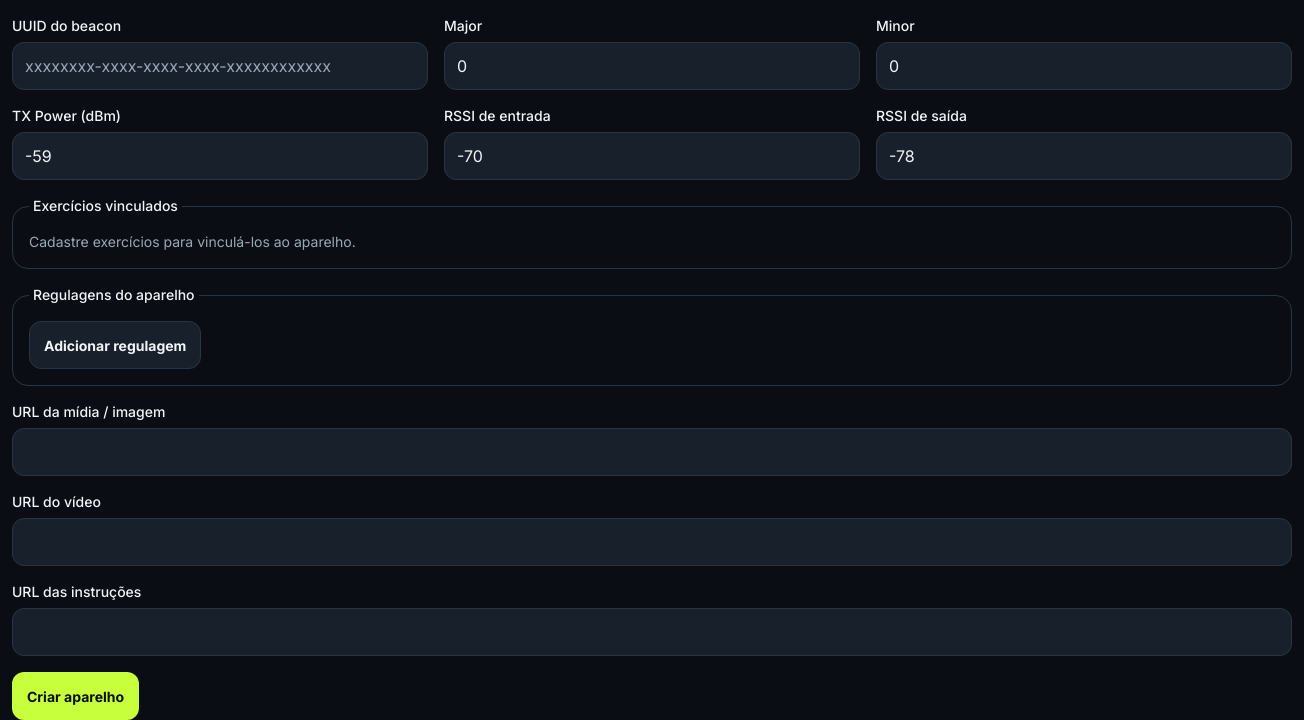
EquipmentEditorForm › valida campos obrigatórios e o formato do UUID
(page scrolled)
Click the button "Criar aparelho": {"x": 76, "y": 696} [12, 672, 139, 719]
(page scrolled)
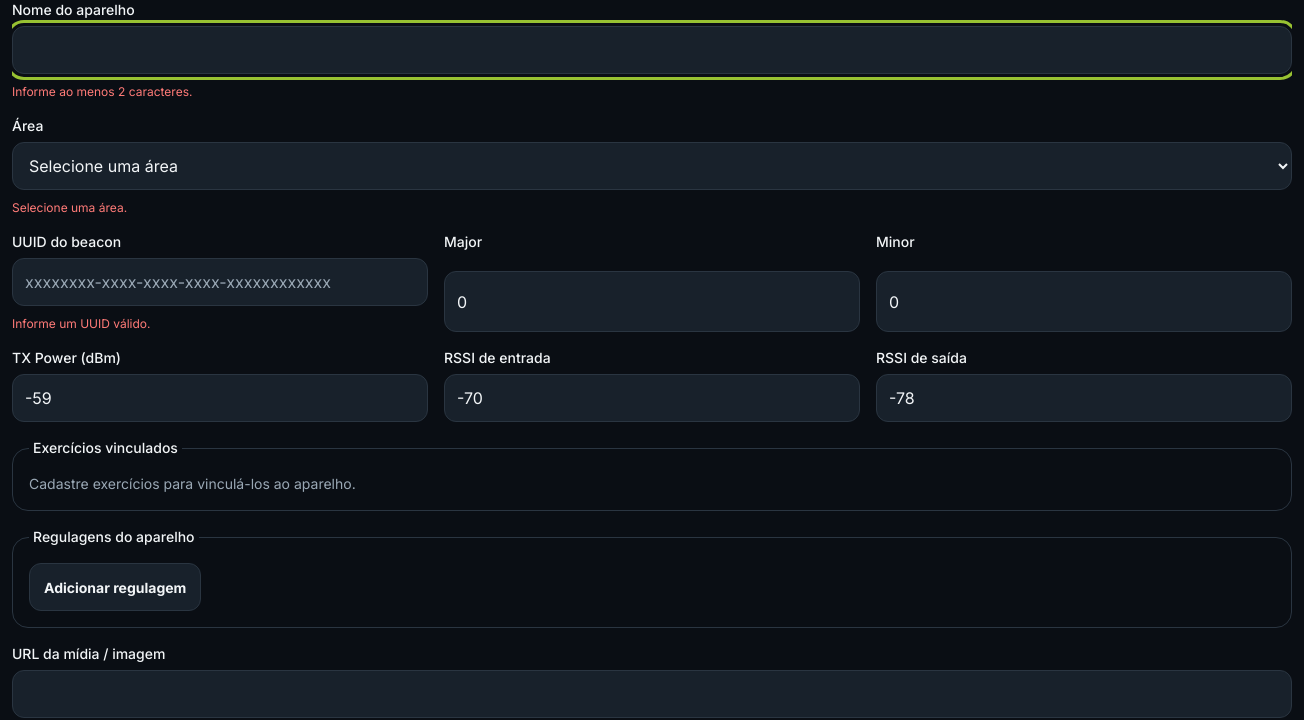
Now the text "Informe ao menos 2 caracteres." is shown, box [12, 84, 192, 99]
Now the text "Selecione uma área." is shown, box [12, 200, 127, 215]
Now the text "Informe um UUID válido." is shown, box [12, 316, 150, 331]
